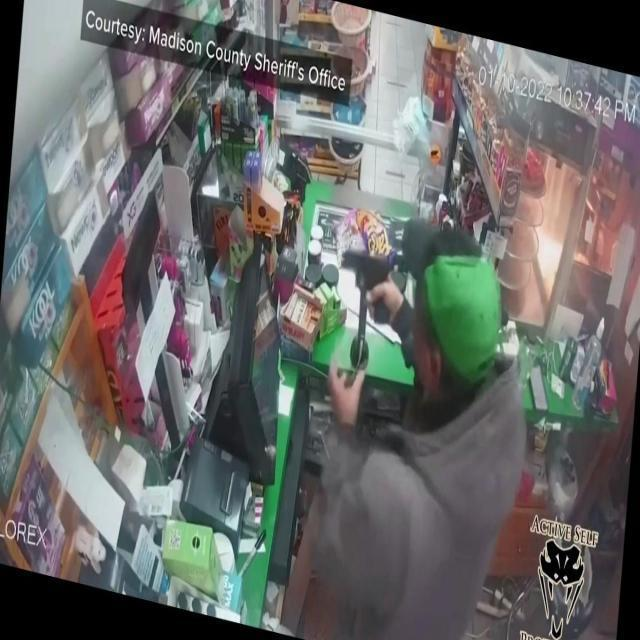pistol: (338, 243, 398, 335)
